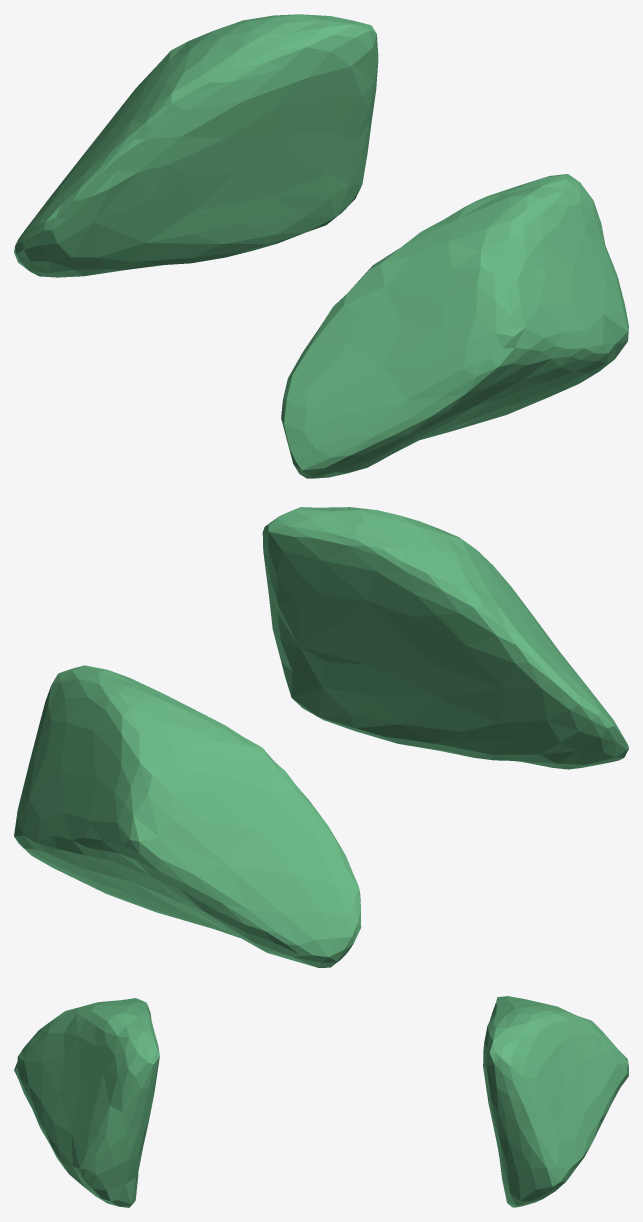
3 views of the same model, one above another, from view 1: azimuth 30°, elevation 25°; view 2: azimuth 150°, elevation 25°; view 3: azimuth 270°, elevation 25° (orthographic). The views are drawn at different scales.
Visible parts, largest first — view 1: 84.obj; view 2: 84.obj; view 3: 84.obj.
Boxes of the visible parts, box(x1,y1,x2,y2) form: 84.obj: box(14, 14, 628, 478); 84.obj: box(14, 507, 628, 967); 84.obj: box(14, 996, 628, 1207).
Bounding box in the file's own units: 1243 × 766 × 2285.
